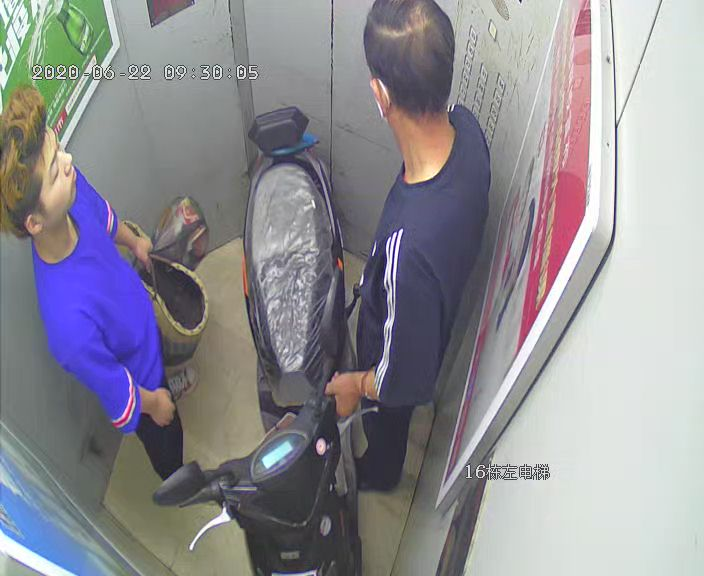Electric-bicycle: (157, 101, 379, 576)
